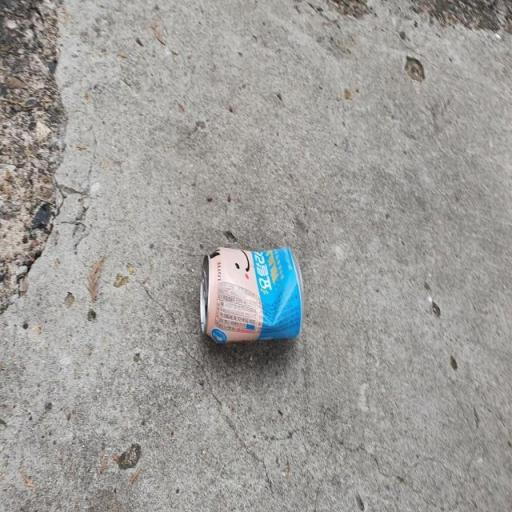metal: (173, 191, 302, 388)
